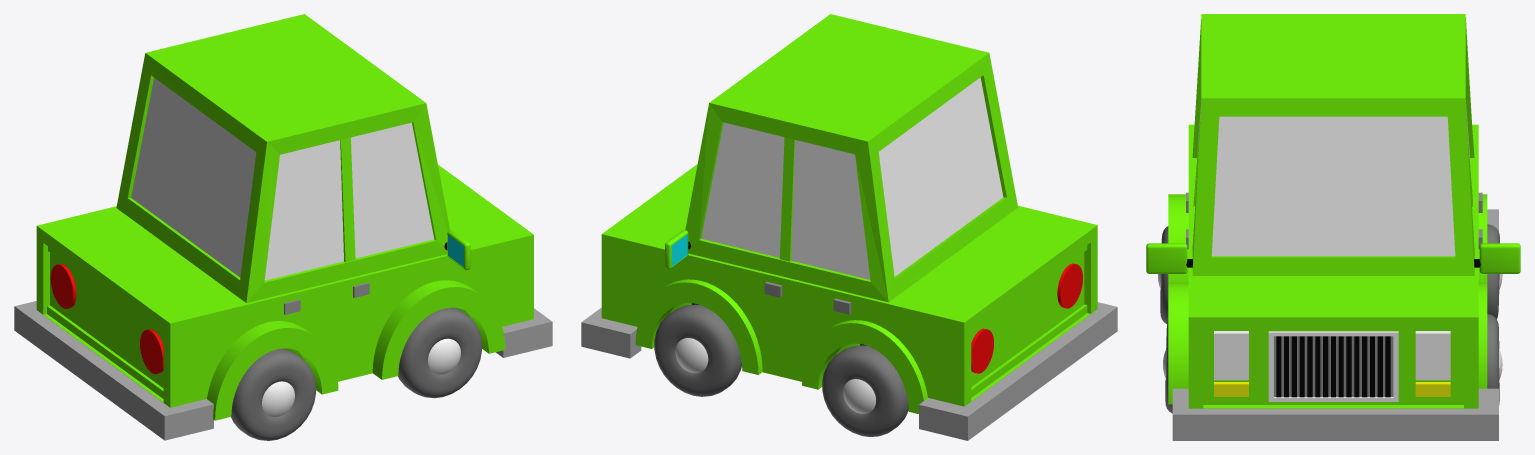
The model's file is carroVerde.glb.
3 renders of one model, left to right at view 1: azimuth 30°, elevation 25°; view 2: azimuth 150°, elevation 25°; view 3: azimuth 270°, elevation 25°, orthographic. The views are drawn at different scales.
Visible parts, largest first — view 1: Object015; view 2: Object015; view 3: Object015.
Part boxes in pixels (x1,y1,x2,y2): Object015: [14, 14, 552, 440]; Object015: [581, 14, 1117, 440]; Object015: [1146, 14, 1520, 440].
Bounding box in the file's own units: 3.09 × 2.18 × 2.38.
